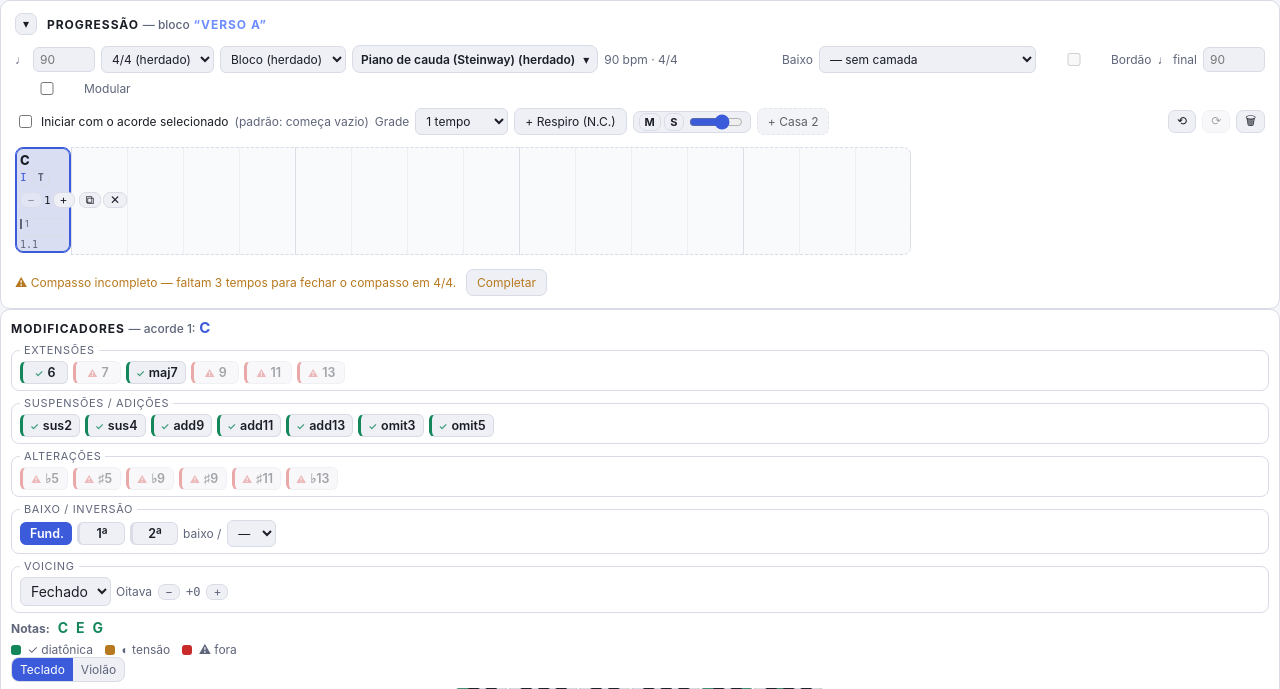
Test: respiro (N.C.), faixa vazia, ModifierPanel e mixer de acordes › + Respiro (N.C.) adiciona card N.C. e ModifierPanel oferece conversão/remoção
Click the button "+ Respiro (N.C.)".
click(570, 122)  # box [514,108,627,135]
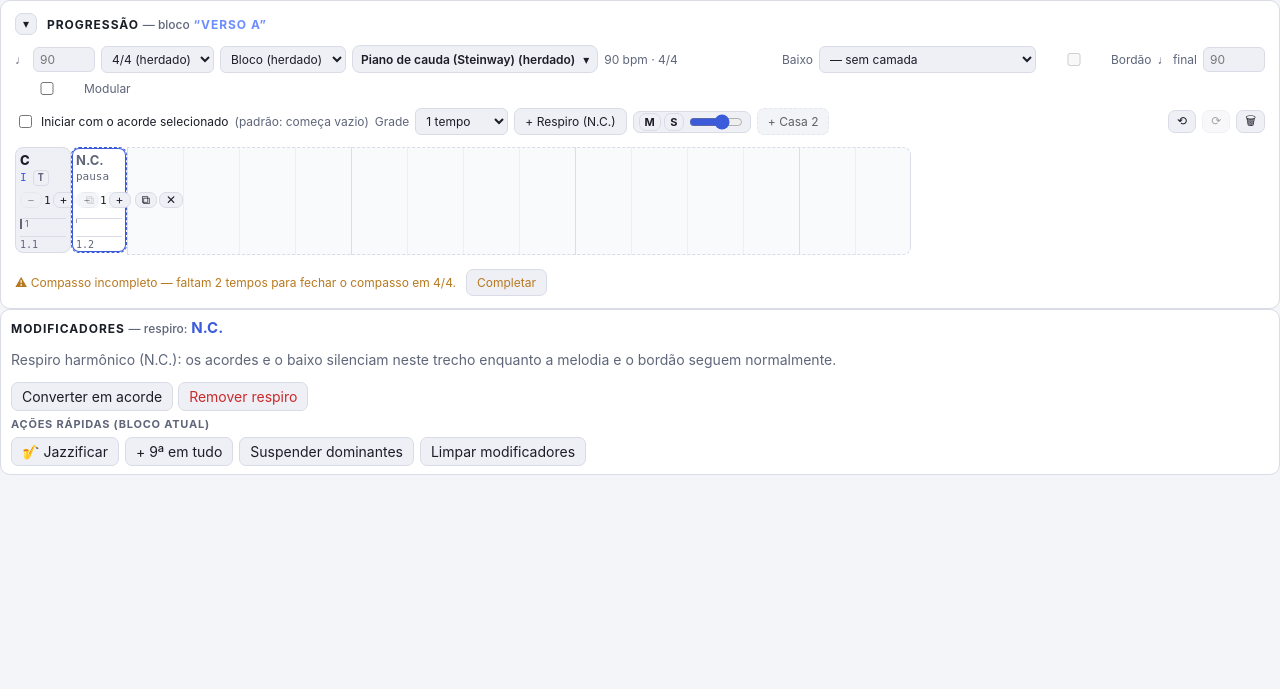
Result: the text "N.C." is shown 2 times at [76,152,104,168]; [191,318,223,337]
Result: the text "Respiro harmônico" is shown at [11,351,836,368]
Click the button "Converter em acorde".
click(92, 397)  # box [11,382,173,411]
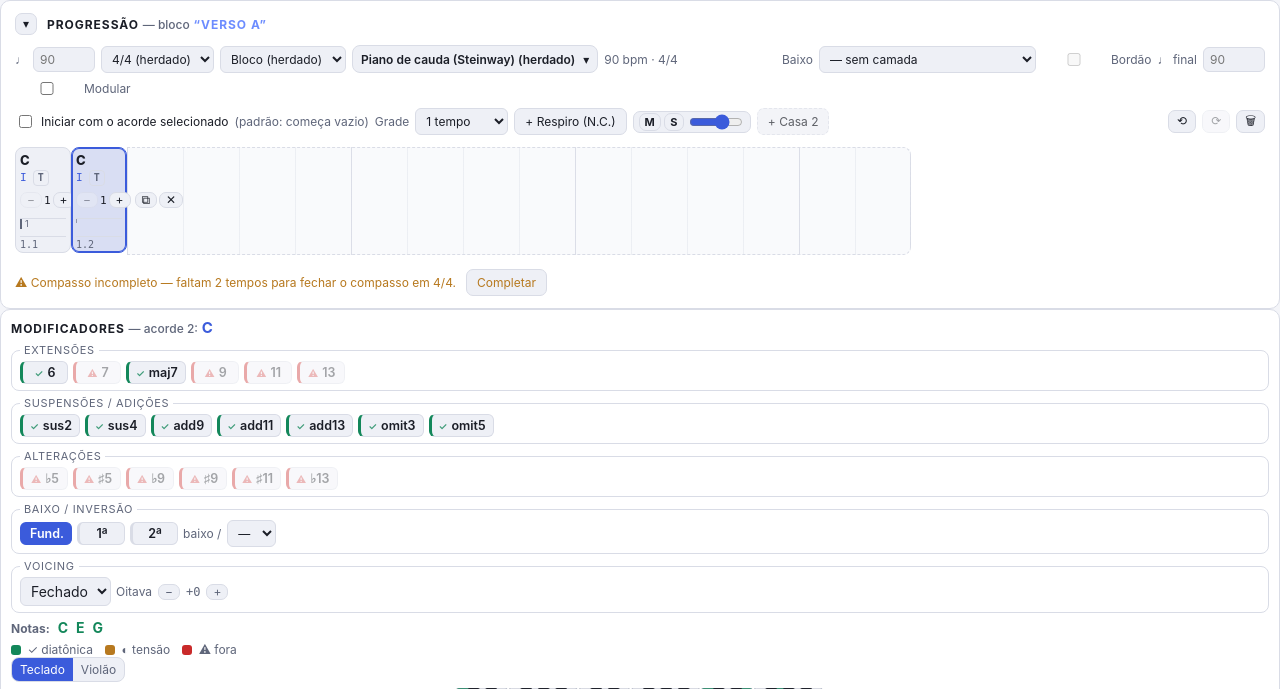
Result: the text "Respiro harmônico" is gone
